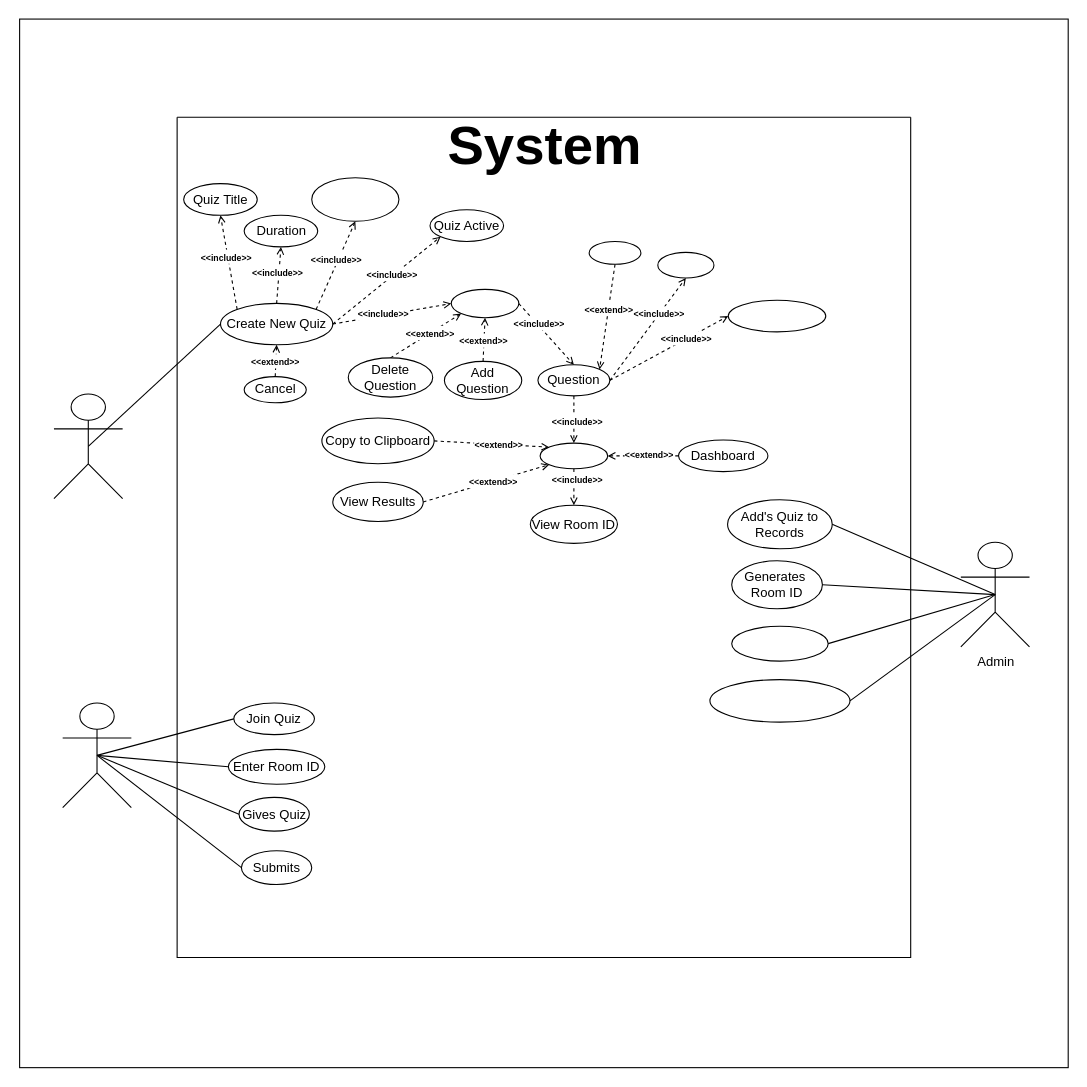
This 1087x1087 diagram has some shape labels left out. The box of each missing label's shape, as (x1, y1, x2, y2) in pixels:
Correct Option: (727, 299, 826, 332)
Display's Quiz: (731, 625, 828, 661)
Display's Score & Correct Answers: (709, 679, 850, 722)
Image: (588, 240, 641, 264)
Options: (657, 251, 714, 278)
Quiz: (450, 288, 519, 318)
Show Result to Students: (311, 177, 399, 221)
Student: (62, 702, 131, 808)
Submit: (539, 442, 608, 469)
Teacher: (53, 393, 123, 499)
